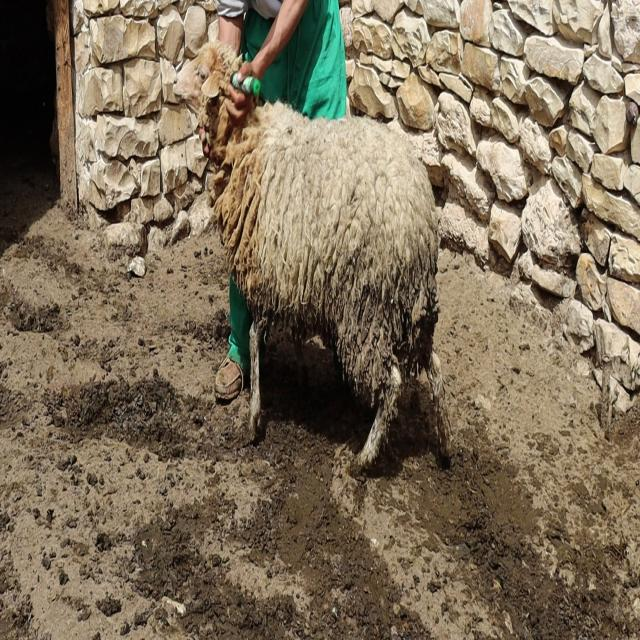Score_2: (175, 41, 450, 473)
